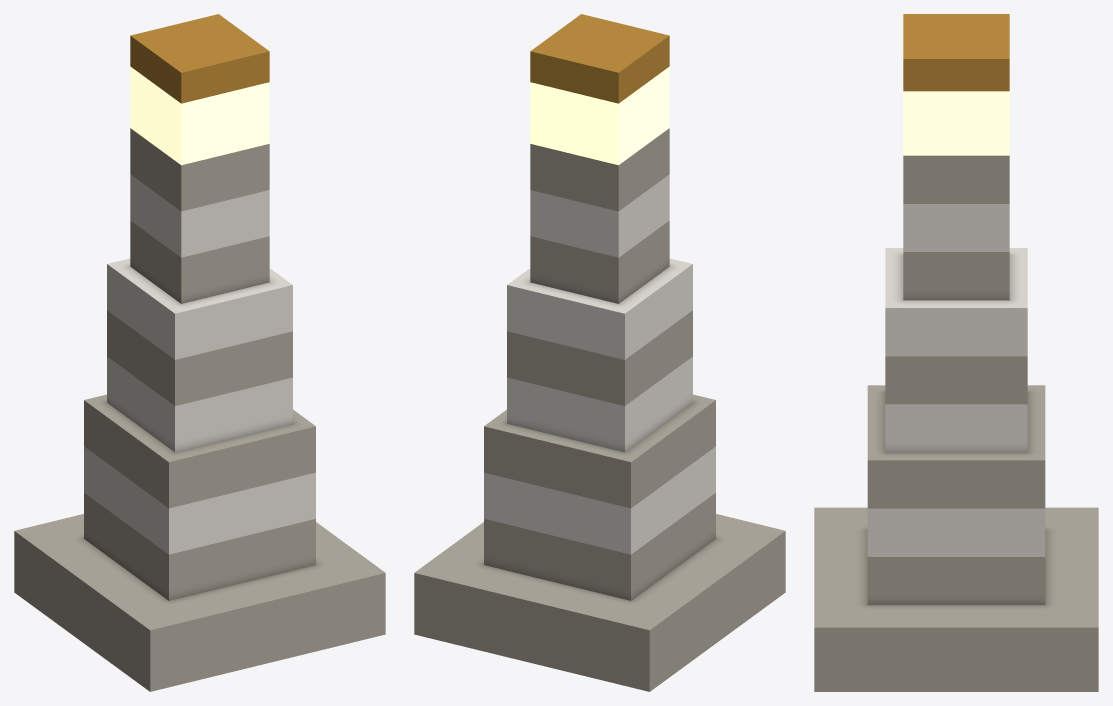
The model's file is w_lighthouse.glb.
3 views of the same model, side by side, from view 1: azimuth 30°, elevation 25°; view 2: azimuth 150°, elevation 25°; view 3: azimuth 270°, elevation 25° (orthographic). The views are drawn at different scales.
Visible parts, largest first — view 1: w_lighthouse_body; view 2: w_lighthouse_body; view 3: w_lighthouse_body.
Part boxes in pixels (x1,y1,x2,y2): w_lighthouse_body: [14, 14, 385, 691]; w_lighthouse_body: [414, 14, 785, 691]; w_lighthouse_body: [814, 14, 1098, 691].
Bounding box in the file's own units: 1 × 2.31 × 1.
1 material, 1 textured.
